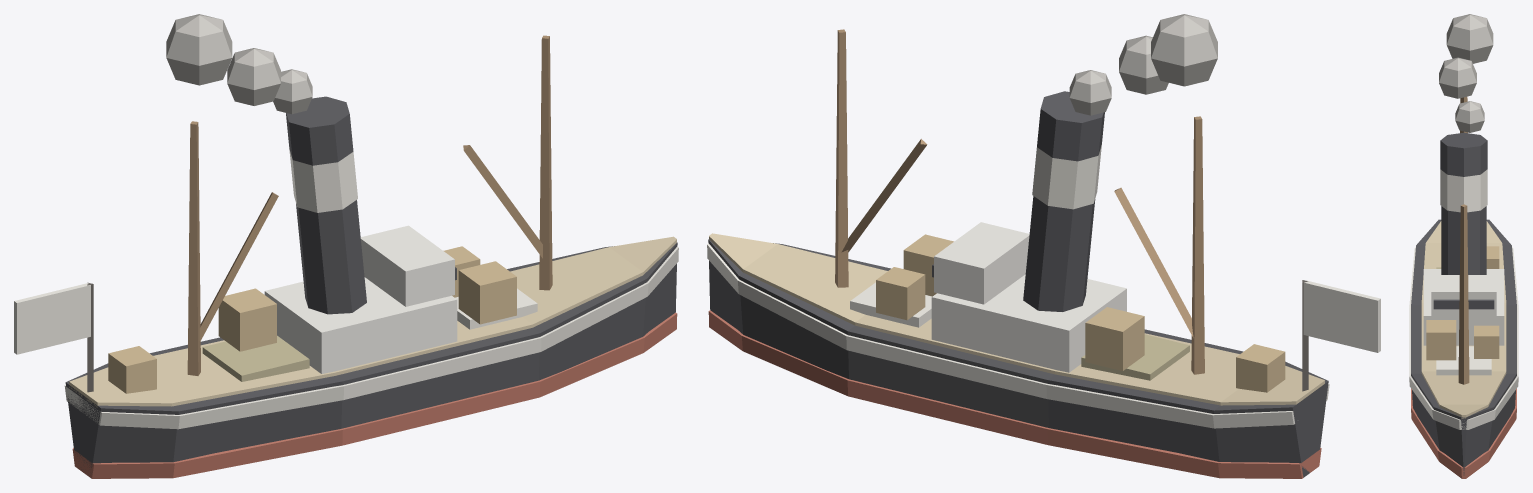
The model's file is trader.glb.
3 renders of one model, left to right at view 1: azimuth 30°, elevation 25°; view 2: azimuth 150°, elevation 25°; view 3: azimuth 270°, elevation 25°, orthographic. The views are drawn at different scales.
Parts seen in each view (by area): view 1: industrial_trader; view 2: industrial_trader; view 3: industrial_trader.
Part boxes in pixels (x1=…): industrial_trader: x1=14, y1=14, x2=678, y2=478; industrial_trader: x1=707, y1=14, x2=1380, y2=478; industrial_trader: x1=1409, y1=14, x2=1518, y2=478.
Bounding box in the file's own units: 0.9995 × 0.6152 × 0.2031.
